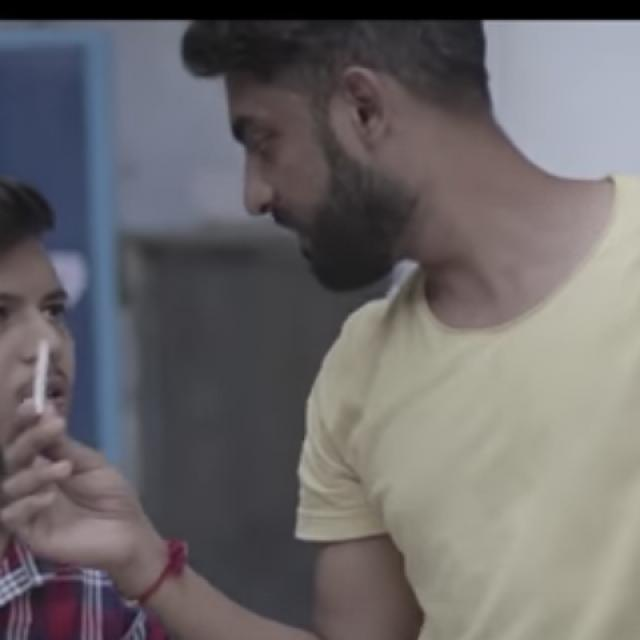smoke: (27, 320, 59, 416)
